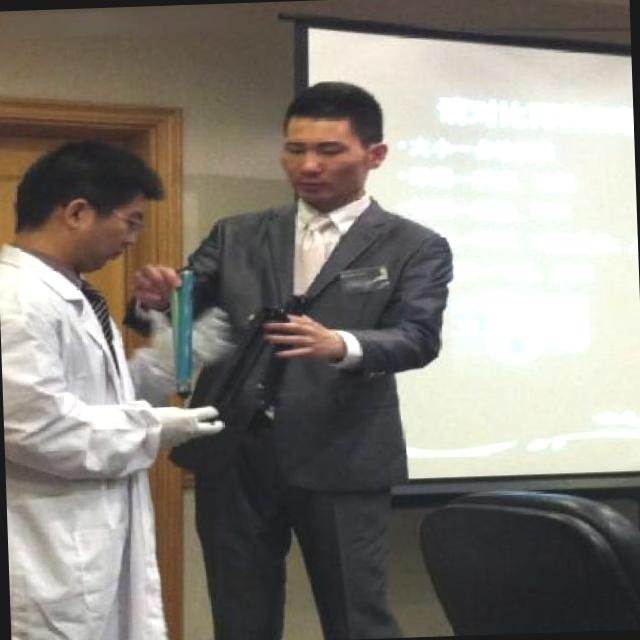Person: (110, 50, 483, 640)
